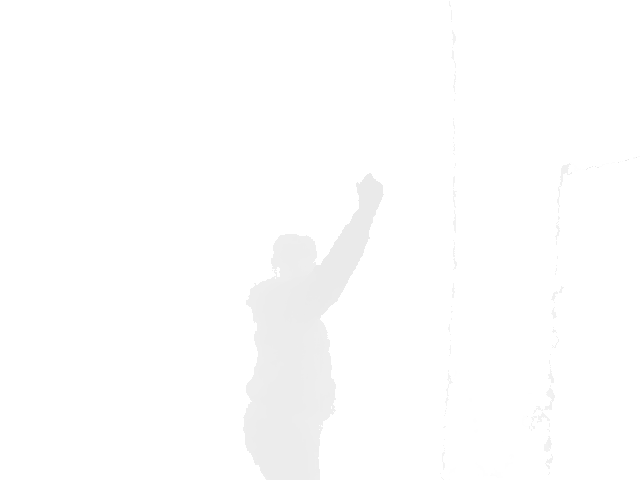hand: (355, 173, 384, 212)
head: (273, 234, 320, 278)
person: (241, 171, 384, 480)
